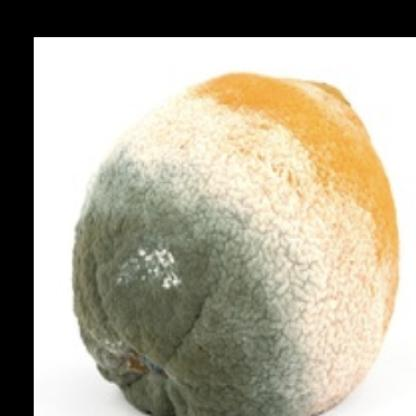rotten: (71, 73, 398, 416)
